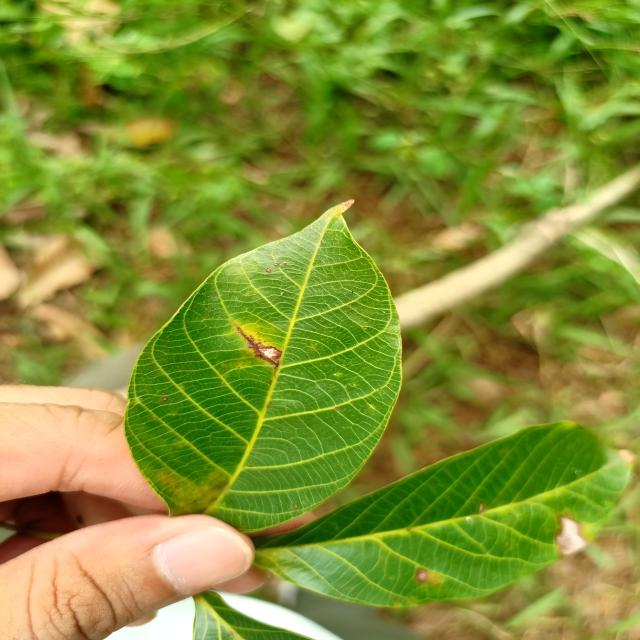Colletotrichum: (162, 397, 168, 401)
Corynespora: (236, 326, 282, 369)
